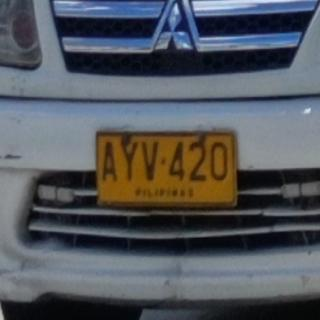license: (98, 134, 238, 209)
